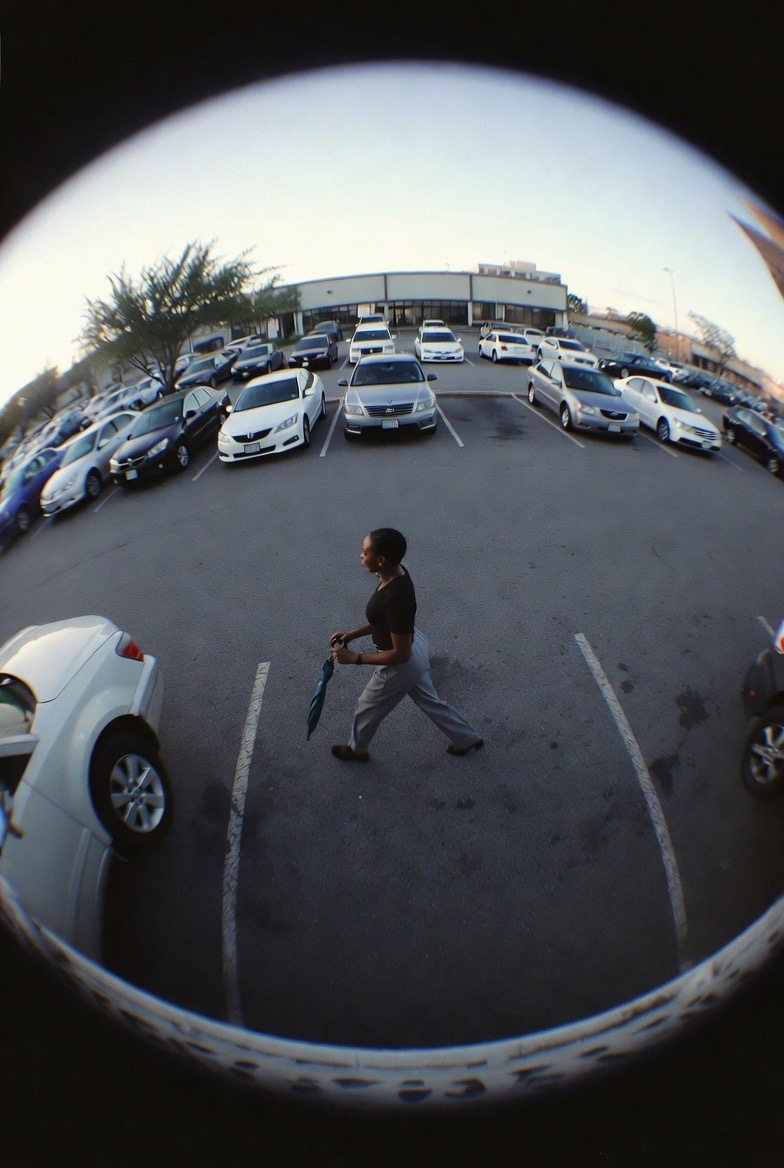person: (347, 513, 505, 767)
umbrella: (301, 641, 351, 747)
